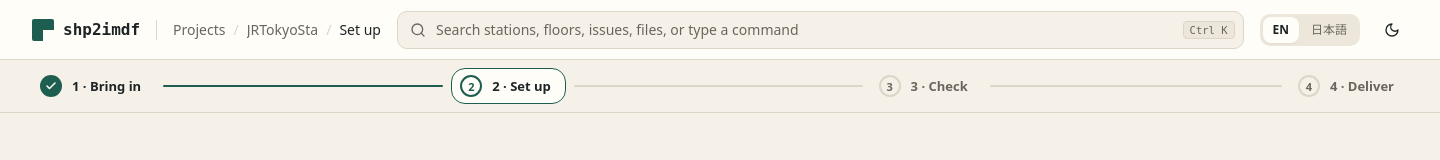
Scenario: top bar › a stage with a route navigates there
Click the button "1 · Bring in": (94, 86) [32,69,155,103]
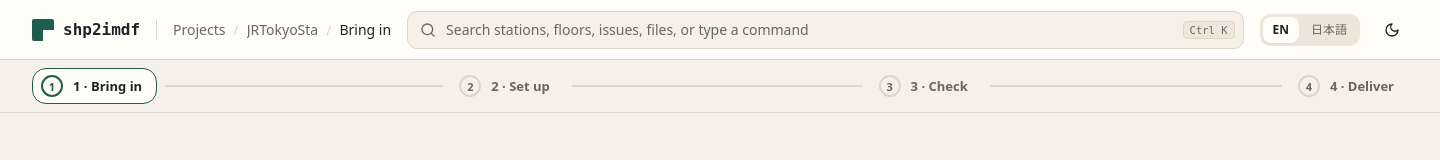
Expected: the navigation bar named "Breadcrumb" shows "Bring in", [339,20,391,38]
